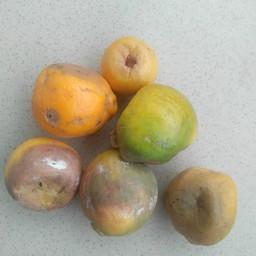Bad_orange: (28, 62, 116, 139), (80, 152, 159, 235), (160, 166, 239, 246), (3, 138, 83, 213)
Good_orange: (116, 84, 201, 168)
